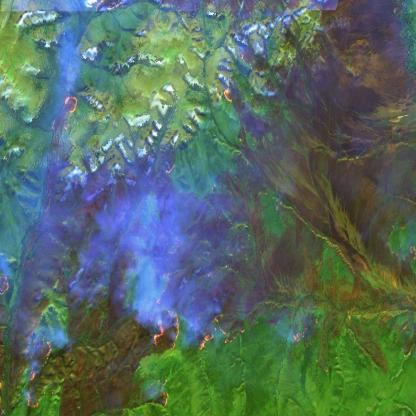fire: (24, 331, 57, 409), (150, 274, 180, 356), (51, 87, 82, 149), (192, 316, 240, 356), (288, 316, 326, 350), (153, 376, 174, 408), (221, 74, 240, 107), (0, 272, 11, 296)
